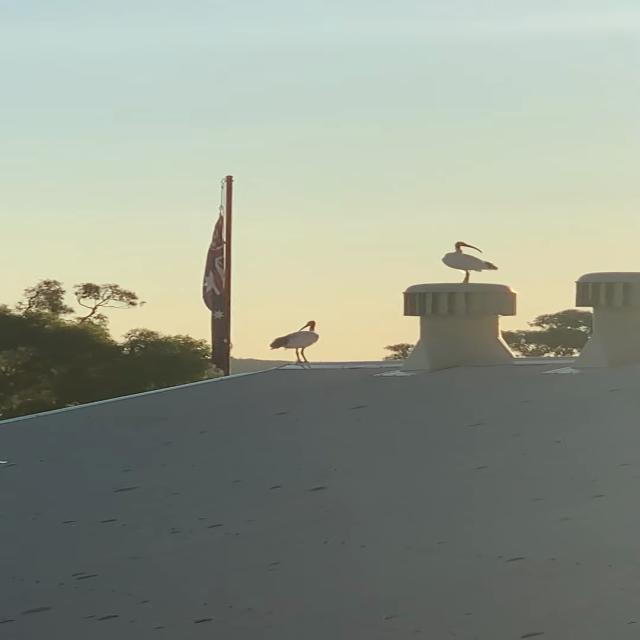Birds-Ibis: (266, 318, 324, 372), (438, 239, 500, 286)
